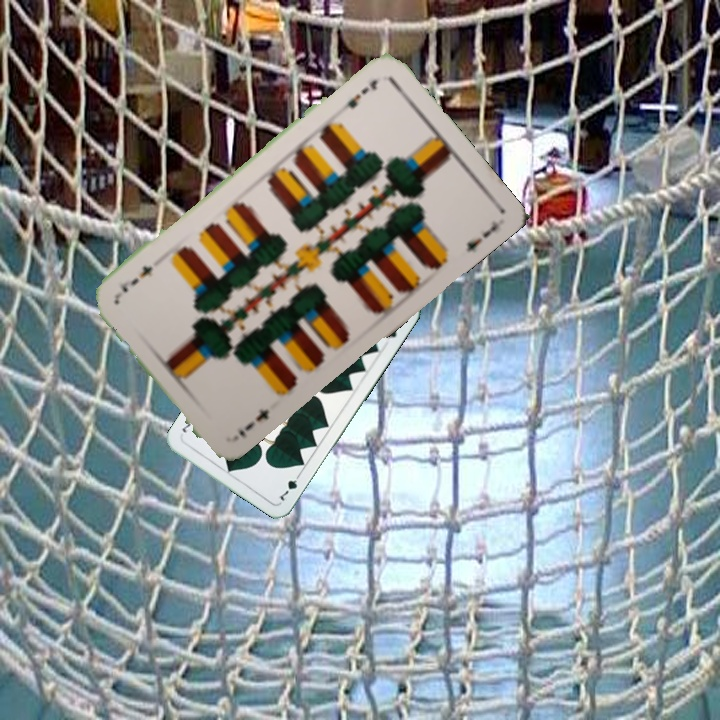E7: (334, 75, 381, 116), (234, 404, 272, 440)
G7: (275, 468, 304, 504)
